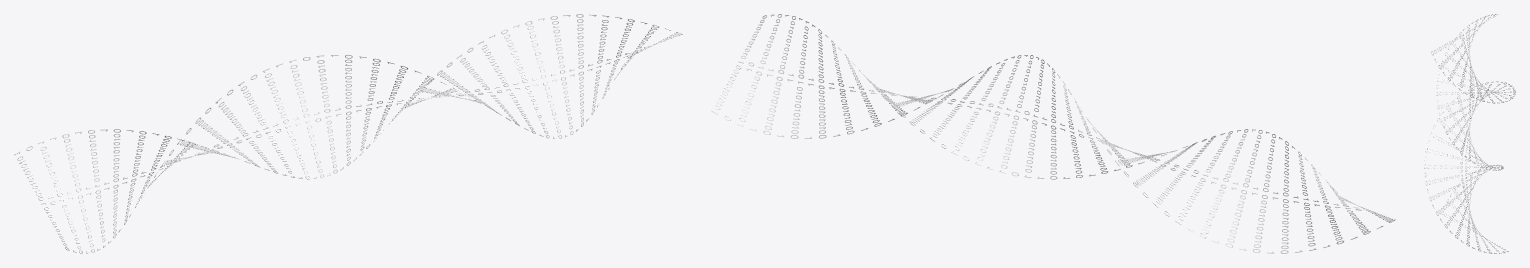
The model's file is digital.glb.
3 views of the same model, side by side, from view 1: azimuth 30°, elevation 25°; view 2: azimuth 150°, elevation 25°; view 3: azimuth 270°, elevation 25° (orthographic). The views are drawn at different scales.
Visible parts, largest first — view 1: Object_2; view 2: Object_2; view 3: Object_2.
Part boxes in pixels (x1,y1,x2,y2): Object_2: [14, 14, 682, 253]; Object_2: [711, 14, 1395, 253]; Object_2: [1424, 14, 1515, 253].
Bounding box in the file's own units: 179 × 34.89 × 34.9.
1 material, 1 textured.
